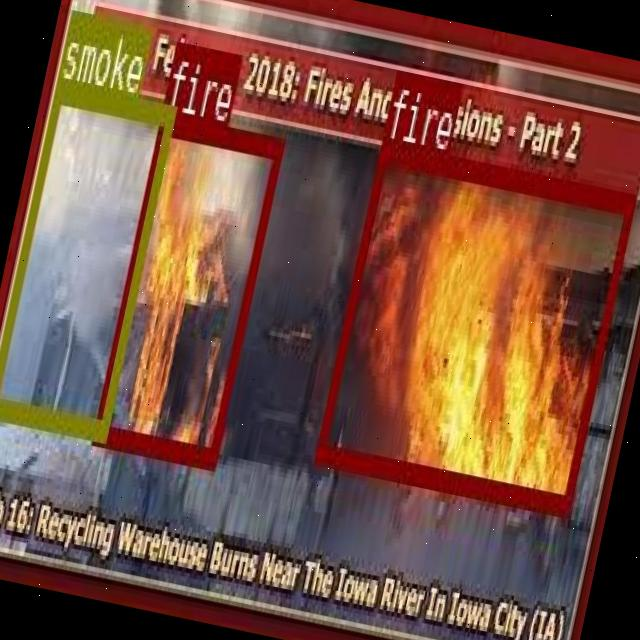fire: (313, 139, 634, 512), (92, 109, 284, 463)
smoke: (0, 80, 174, 438)
